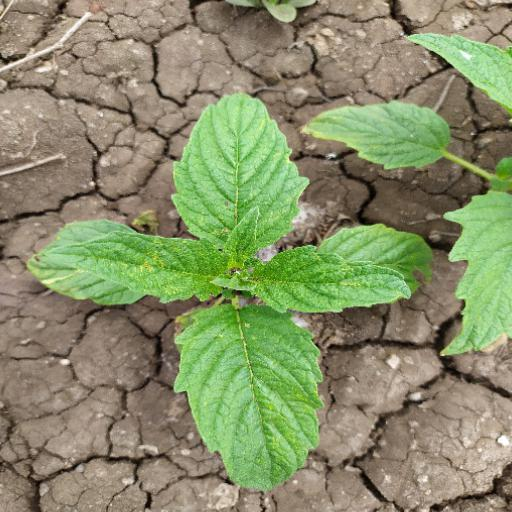crop: (30, 85, 441, 511)
